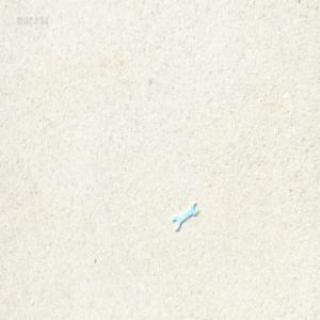Wrenchtrack_idkeyframe: (172, 199, 198, 229)
